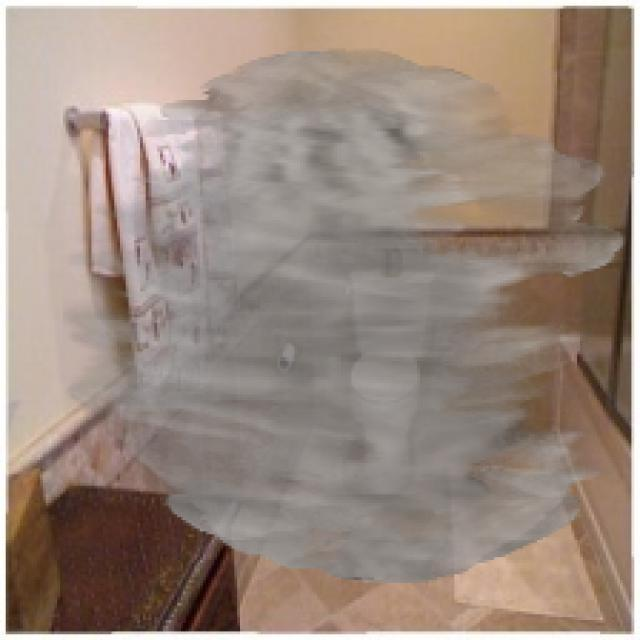Smoke: (63, 48, 626, 583)
